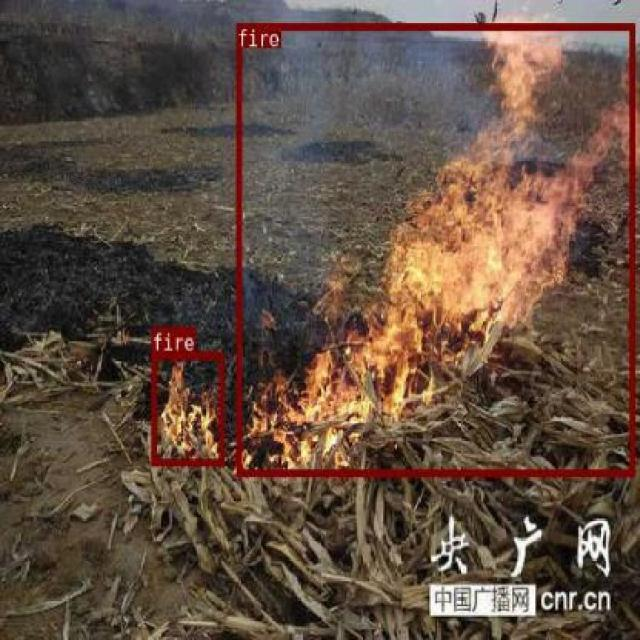Fire: (235, 22, 634, 476), (150, 351, 223, 464)
